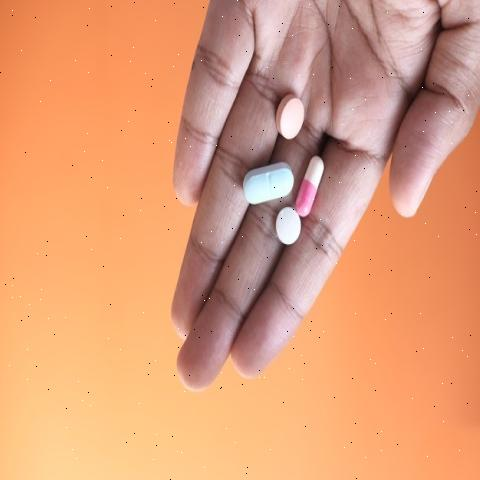Pill: (237, 157, 296, 204), (266, 94, 308, 142), (268, 205, 300, 249)
